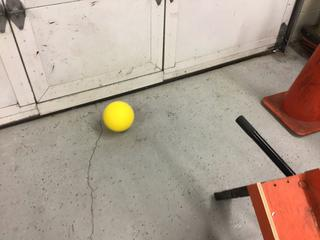power_cell: (100, 99, 138, 134)
